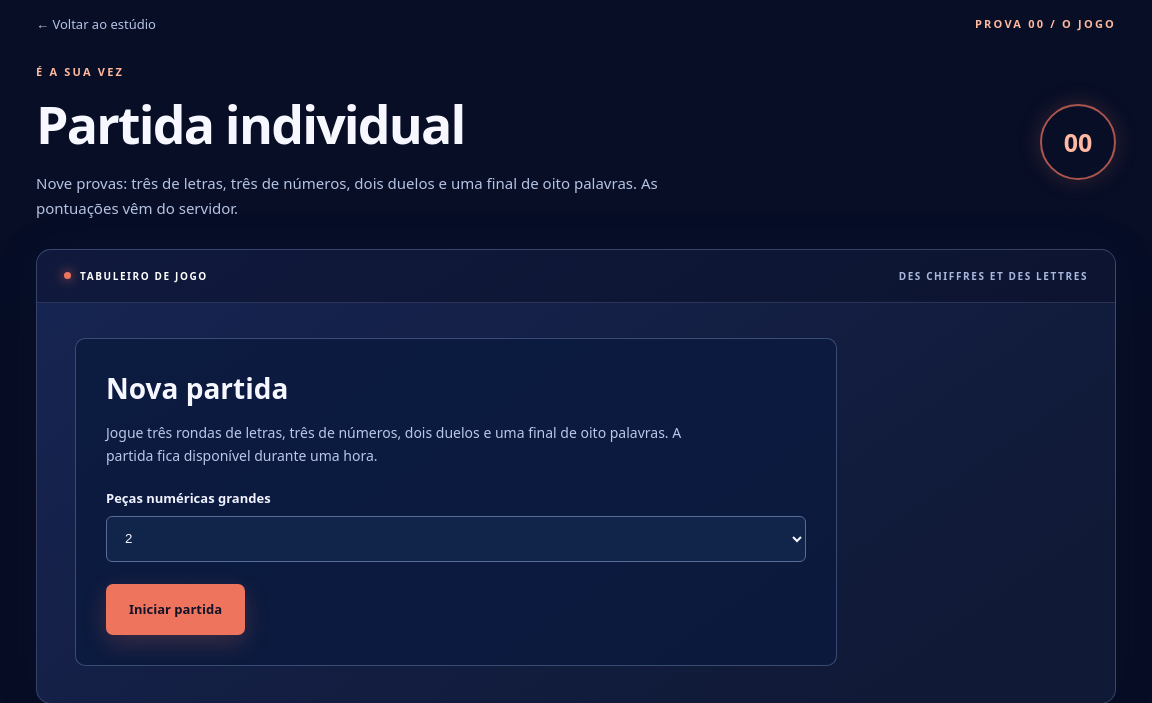
Test: creates a nine-stage solo game and persists match ID
Expected: the heading "Nova partida" is shown, [106,369,288,407]
Click the button "Iniciar partida".
click(176, 609)  # box [106,584,245,635]
(page scrolled)
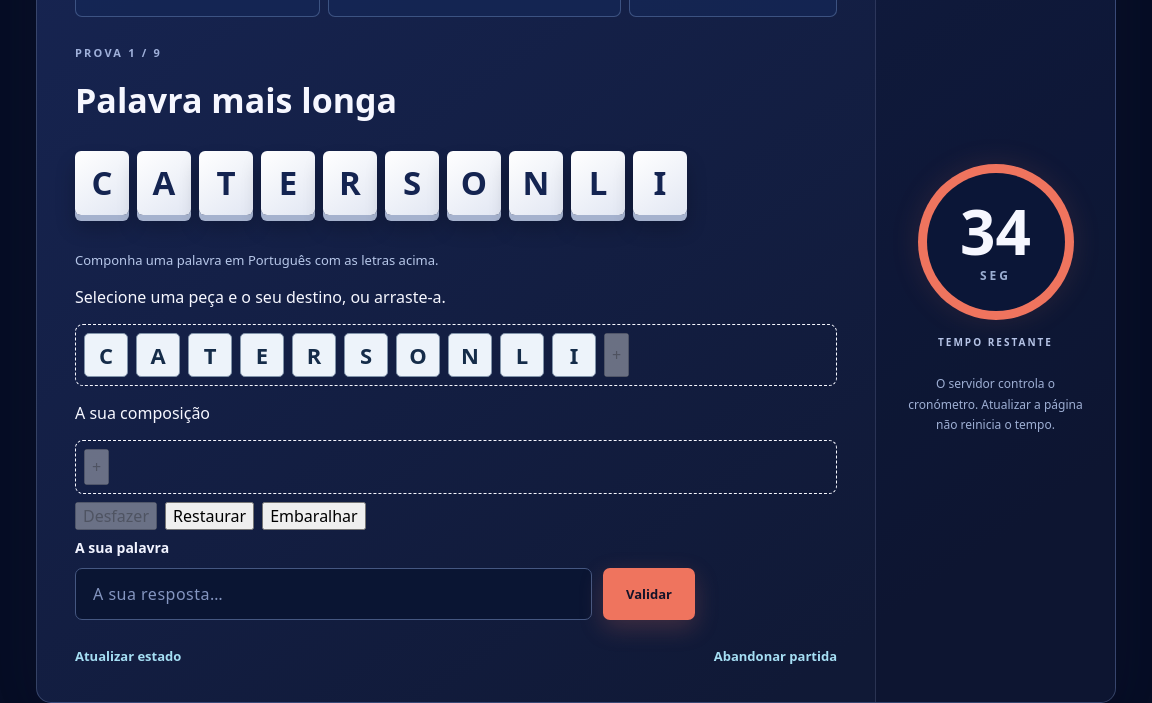
Expected: the field labelled "A sua palavra" is shown, [75,568,592,620]
